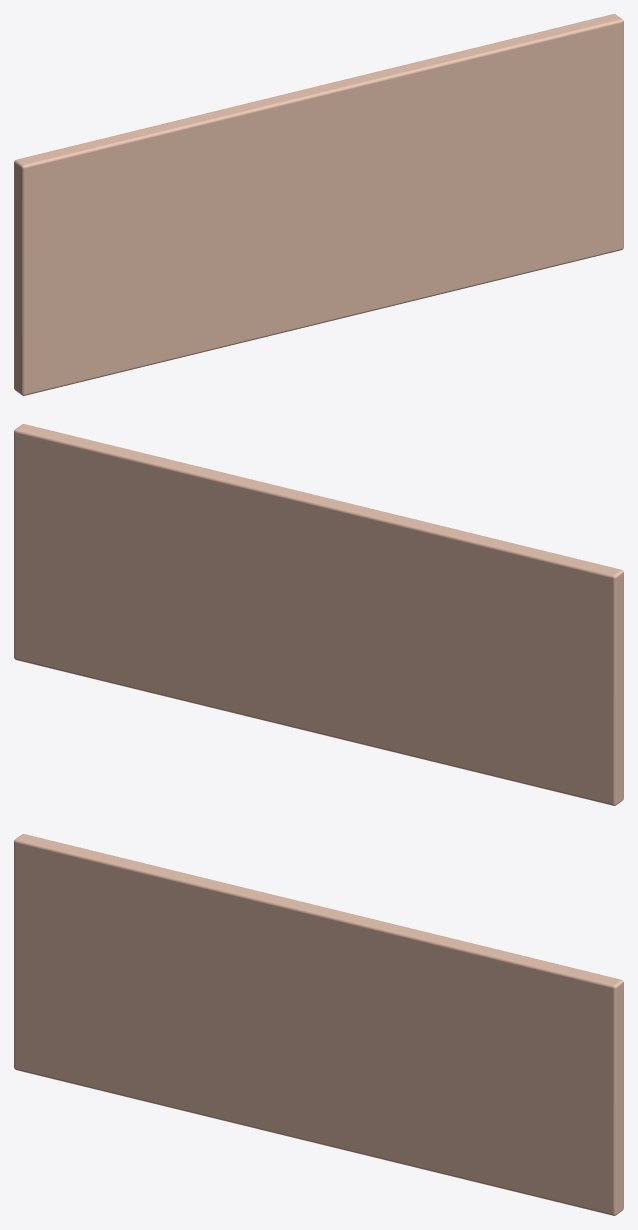
Rendered from SimpleWall.fbx.
3 renders of one model, top to bottom at view 1: azimuth 30°, elevation 25°; view 2: azimuth 150°, elevation 25°; view 3: azimuth 330°, elevation 25°, orthographic.
Visible parts, largest first — view 1: SimpleWall; view 2: SimpleWall; view 3: SimpleWall.
Part boxes in pixels (x1,y1,x2,y2): SimpleWall: (14,14,623,395); SimpleWall: (14,424,623,805); SimpleWall: (14,834,623,1215).
Bounding box in the file's own units: 917 × 336 × 25.4.
